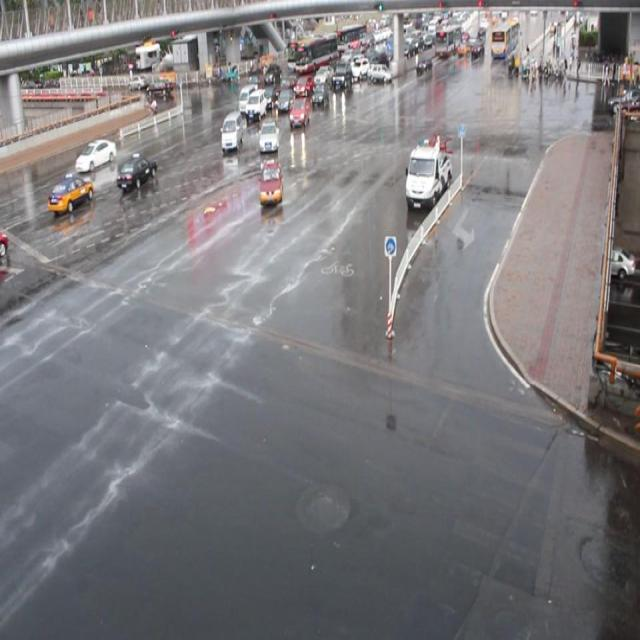bus: (404, 145, 452, 212)
car: (48, 172, 94, 212), (116, 153, 157, 188), (75, 138, 116, 171), (259, 158, 283, 202), (258, 120, 280, 151), (289, 97, 309, 126), (256, 89, 278, 112), (290, 77, 311, 98), (276, 88, 295, 111), (311, 82, 330, 104)
truck: (220, 110, 243, 150), (243, 90, 265, 122), (238, 84, 256, 113)
